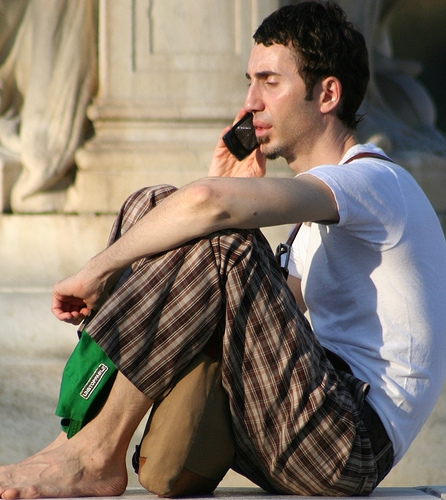phone: (211, 110, 269, 168)
